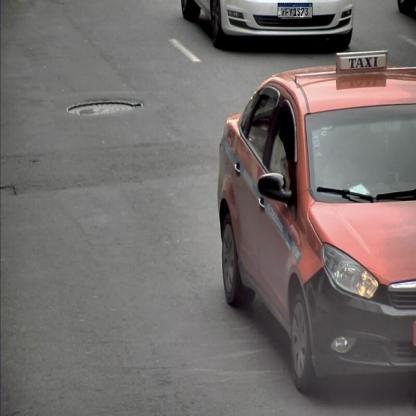PlacaM: (278, 3, 312, 18)
